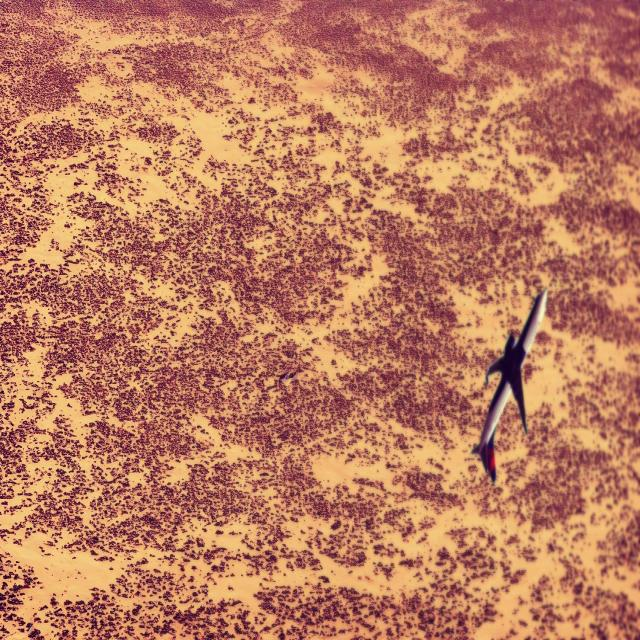airplane: (471, 287, 548, 483)
